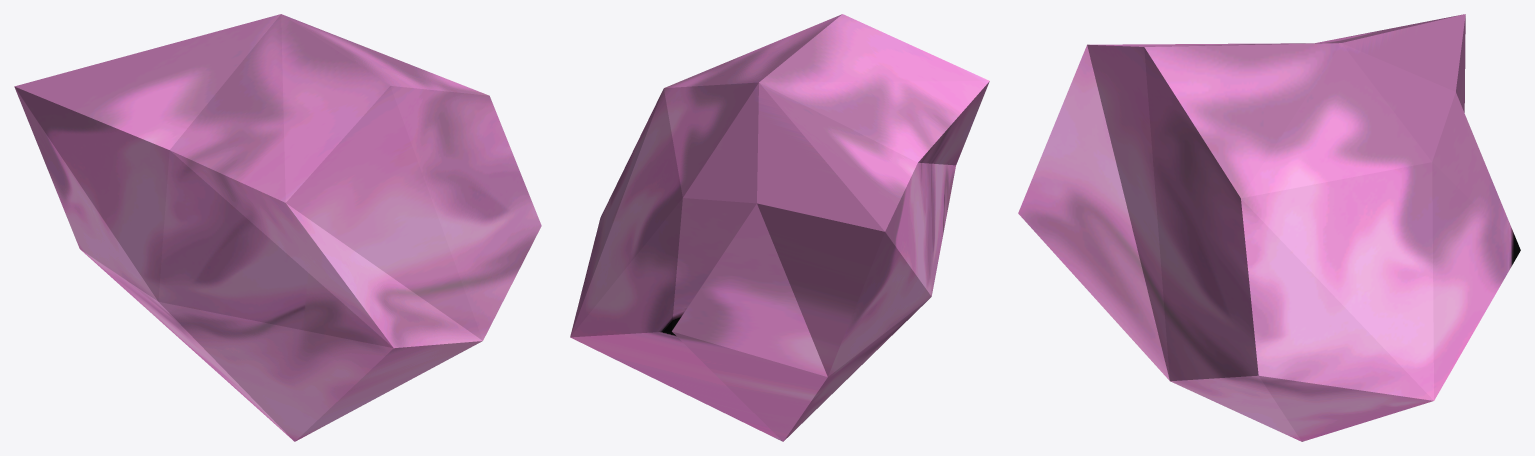
Rendered from gum.glb.
3 views of the same model, side by side, from view 1: azimuth 30°, elevation 25°; view 2: azimuth 150°, elevation 25°; view 3: azimuth 270°, elevation 25° (orthographic). The views are drawn at different scales.
Parts seen in each view (by area): view 1: gum; view 2: gum; view 3: gum.
Boxes of the visible parts, x1,y1,x2,y2 form: gum: (14, 14, 541, 441); gum: (570, 14, 989, 441); gum: (1018, 14, 1520, 441).
Bounding box in the file's own units: 17.97 × 16.77 × 19.
Materials: 1 (1 with a texture image).
